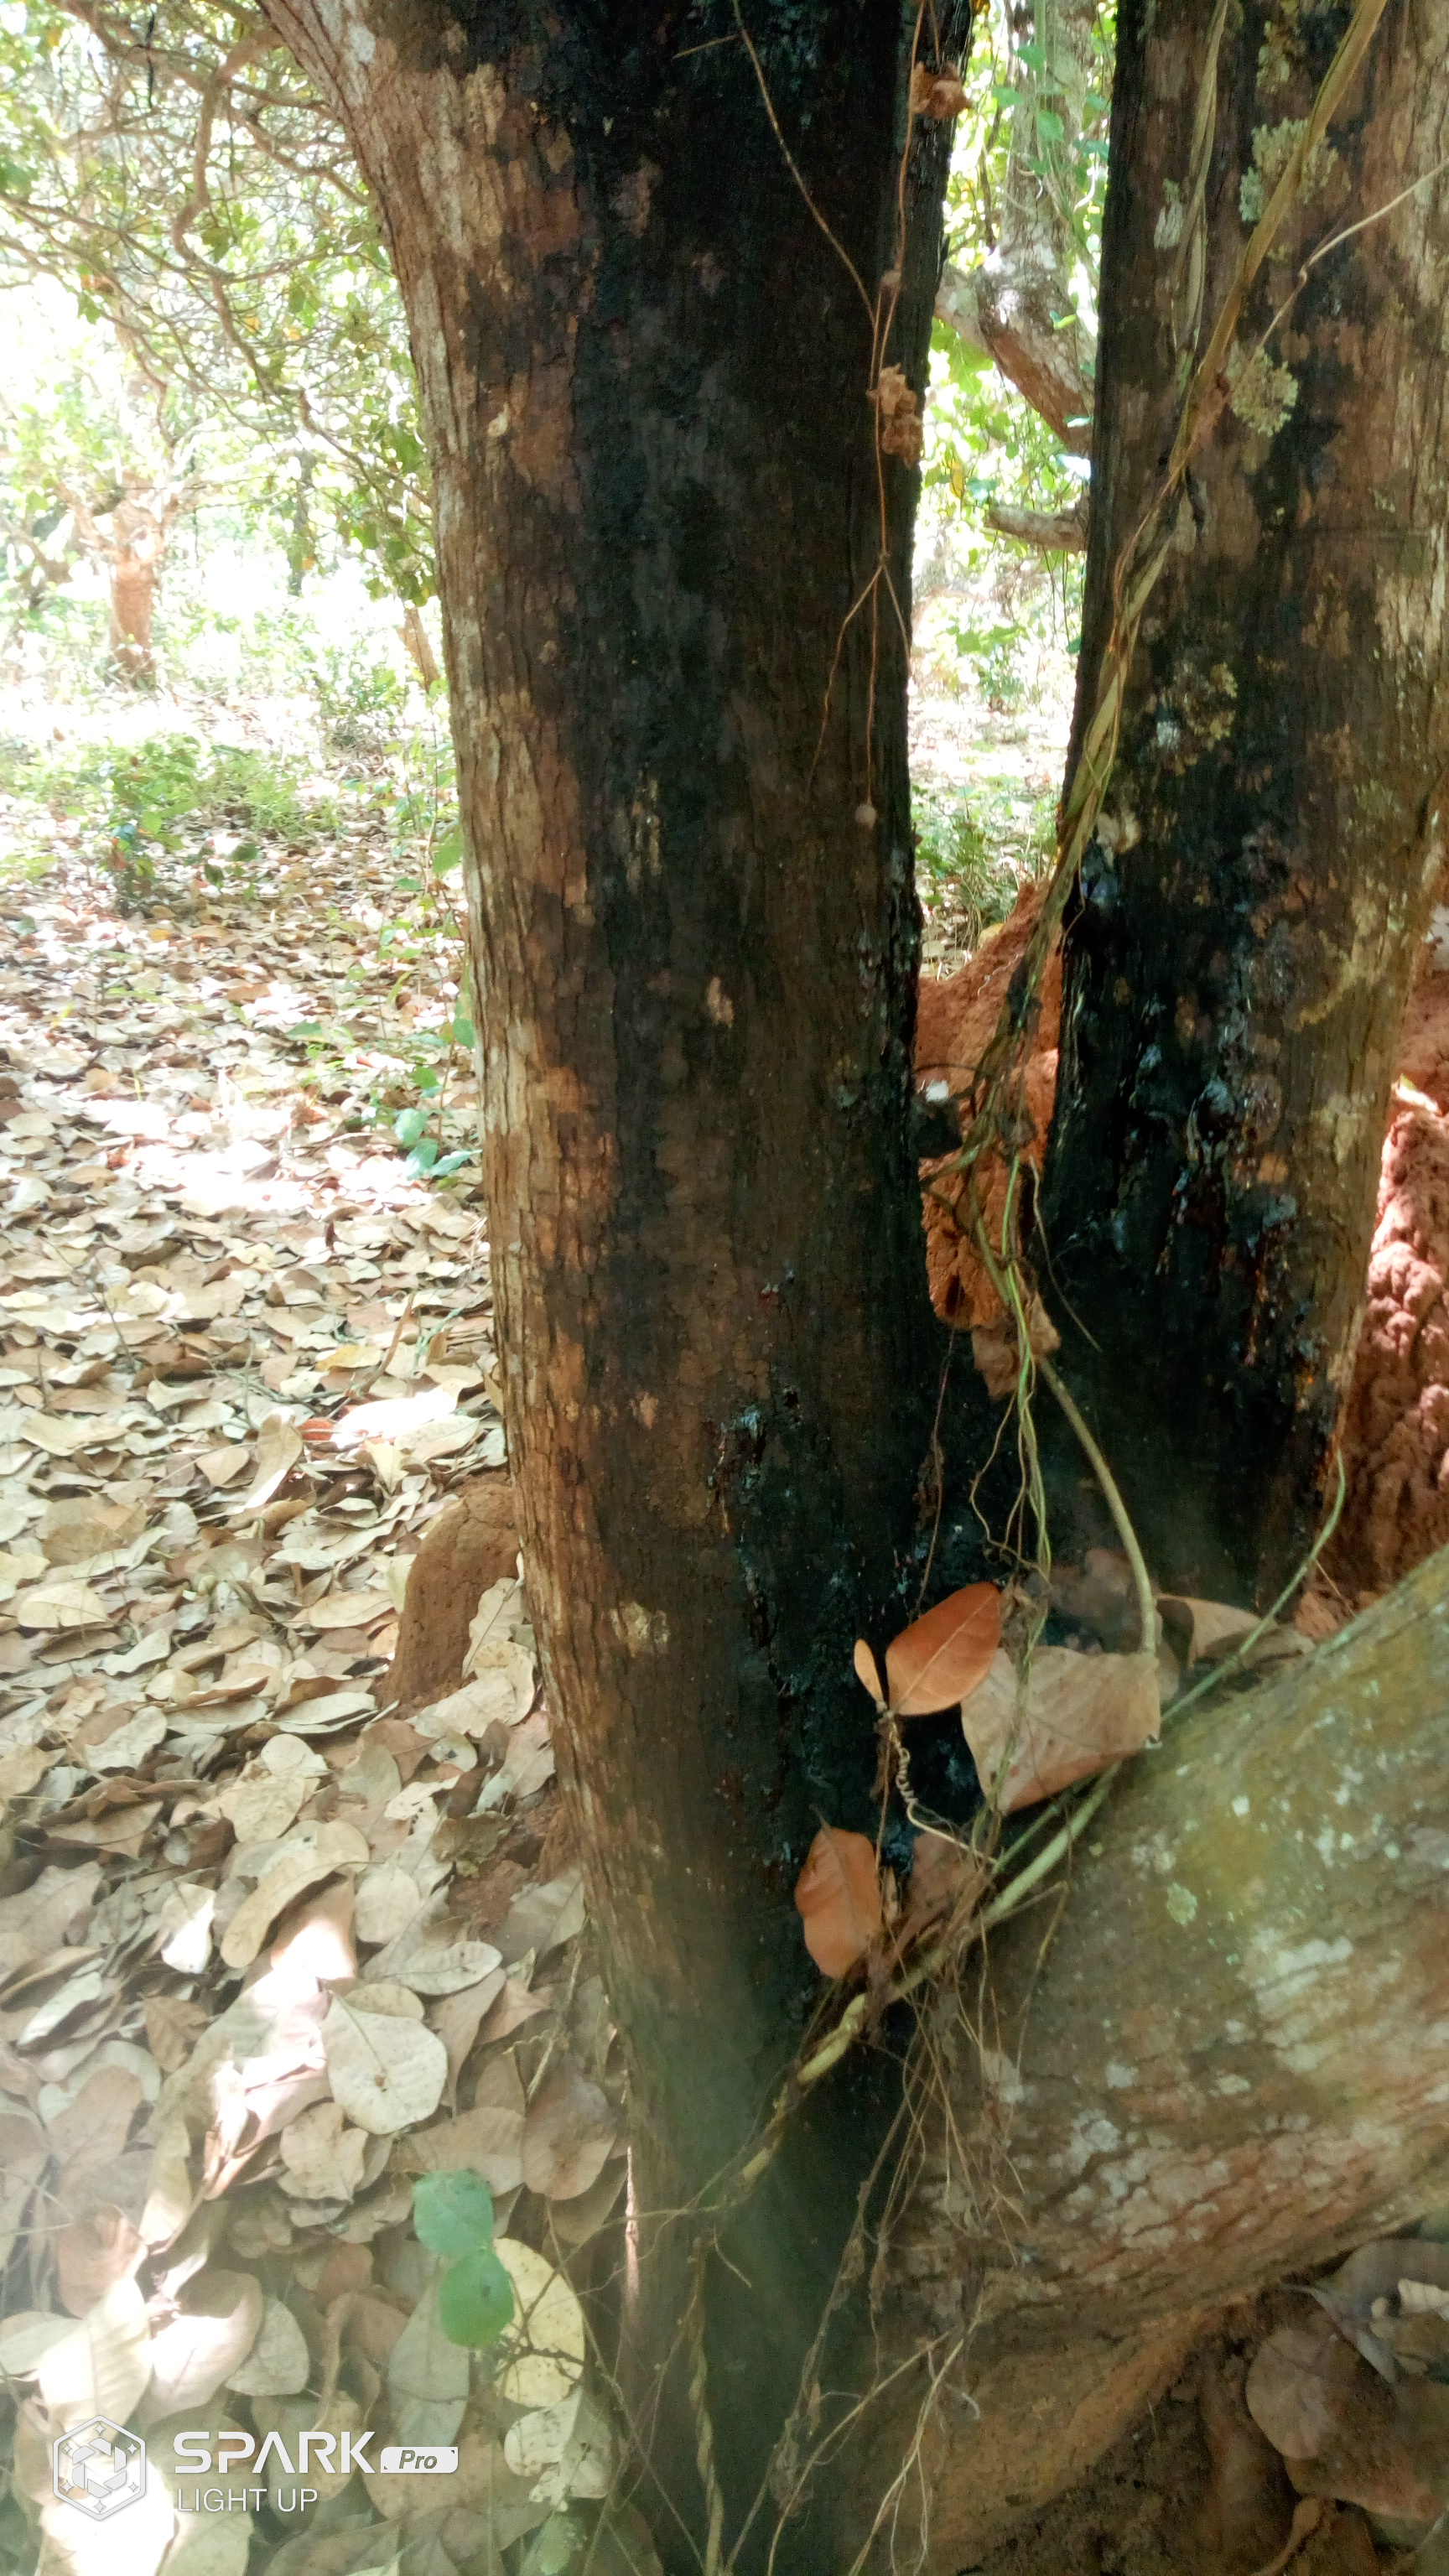Gommose: (541, 46, 932, 1902), (1044, 736, 1316, 1470)
